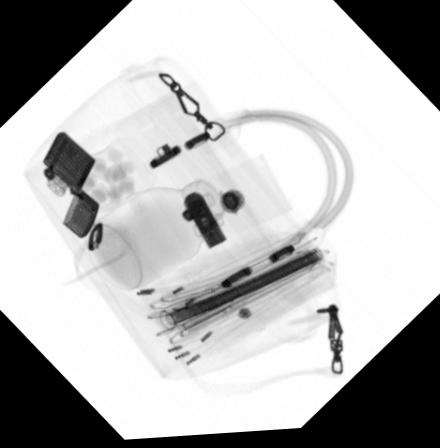Lighter: (41, 130, 100, 240)
